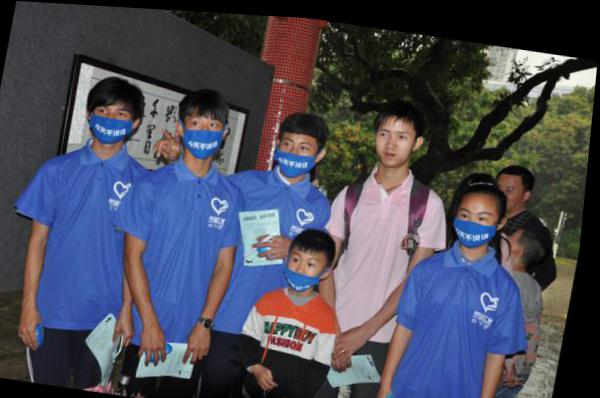NONE: (374, 114, 419, 165), (496, 169, 527, 205)
OK: (84, 93, 140, 148), (179, 108, 235, 163), (452, 195, 504, 246), (274, 129, 324, 177)
WRONG: (288, 243, 336, 289)
